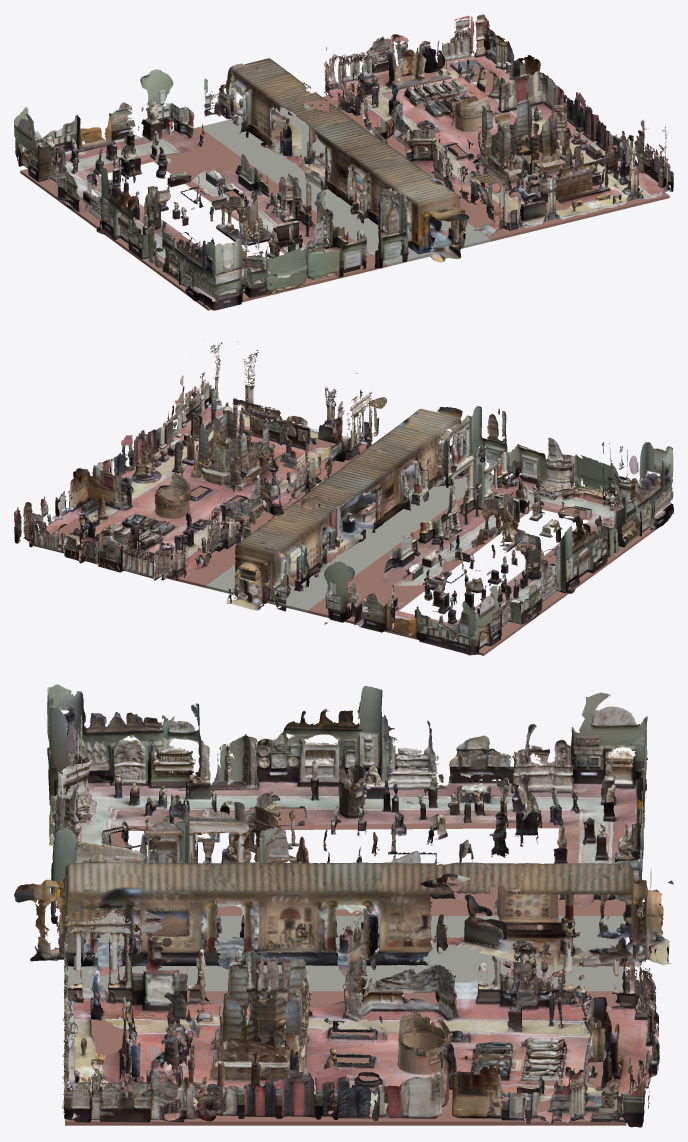
File: va-hall-scan.glb
3 views of the same model, one above another, from view 1: azimuth 30°, elevation 25°; view 2: azimuth 150°, elevation 25°; view 3: azimuth 270°, elevation 25° (orthographic). The views are drawn at different scales.
Parts seen in each view (by area): view 1: HallScan_03_Working.001, HallScan_01_Working.001, HallScan_02_Working.001, Infill_Floor_Central_Corridor.001, Infill_Floor_Cast_Court_A.001, Infill_Floor_Cast_Court_B.001, HallScan_03_V6_FarEnd_Architecture_Working.001; view 2: HallScan_03_Working.001, HallScan_01_Working.001, HallScan_02_Working.001, Infill_Floor_Central_Corridor.001, Infill_Floor_Cast_Court_A.001, Infill_Floor_Cast_Court_B.001, HallScan_03_V6_FarEnd_Architecture_Working.001; view 3: HallScan_03_Working.001, HallScan_01_Working.001, HallScan_02_Working.001, Infill_Floor_Central_Corridor.001, Infill_Floor_Cast_Court_B.001, Infill_Floor_Cast_Court_A.001.
Boxes of the visible parts, x1,y1,x2,y2 form: HallScan_03_Working.001: [324, 14, 673, 235]; HallScan_01_Working.001: [14, 69, 375, 310]; HallScan_02_Working.001: [68, 47, 468, 298]; Infill_Floor_Central_Corridor.001: [200, 103, 490, 266]; Infill_Floor_Cast_Court_A.001: [20, 127, 387, 310]; Infill_Floor_Cast_Court_B.001: [304, 61, 669, 241]; HallScan_03_V6_FarEnd_Architecture_Working.001: [334, 15, 469, 71]; HallScan_03_Working.001: [14, 341, 386, 580]; HallScan_01_Working.001: [324, 437, 673, 655]; HallScan_02_Working.001: [170, 406, 630, 624]; Infill_Floor_Central_Corridor.001: [206, 476, 467, 612]; Infill_Floor_Cast_Court_A.001: [307, 475, 668, 655]; Infill_Floor_Cast_Court_B.001: [30, 437, 358, 587]; HallScan_03_V6_FarEnd_Architecture_Working.001: [27, 511, 161, 569]; HallScan_03_Working.001: [61, 909, 659, 1127]; HallScan_01_Working.001: [47, 684, 647, 916]; HallScan_02_Working.001: [14, 715, 673, 1006]; Infill_Floor_Central_Corridor.001: [65, 916, 626, 991]; Infill_Floor_Cast_Court_B.001: [65, 991, 626, 1125]; Infill_Floor_Cast_Court_A.001: [99, 785, 625, 915].
Size of the model in its own units: 58.96 by 9.23 by 47.06.
Materials: 5 (3 with a texture image).
